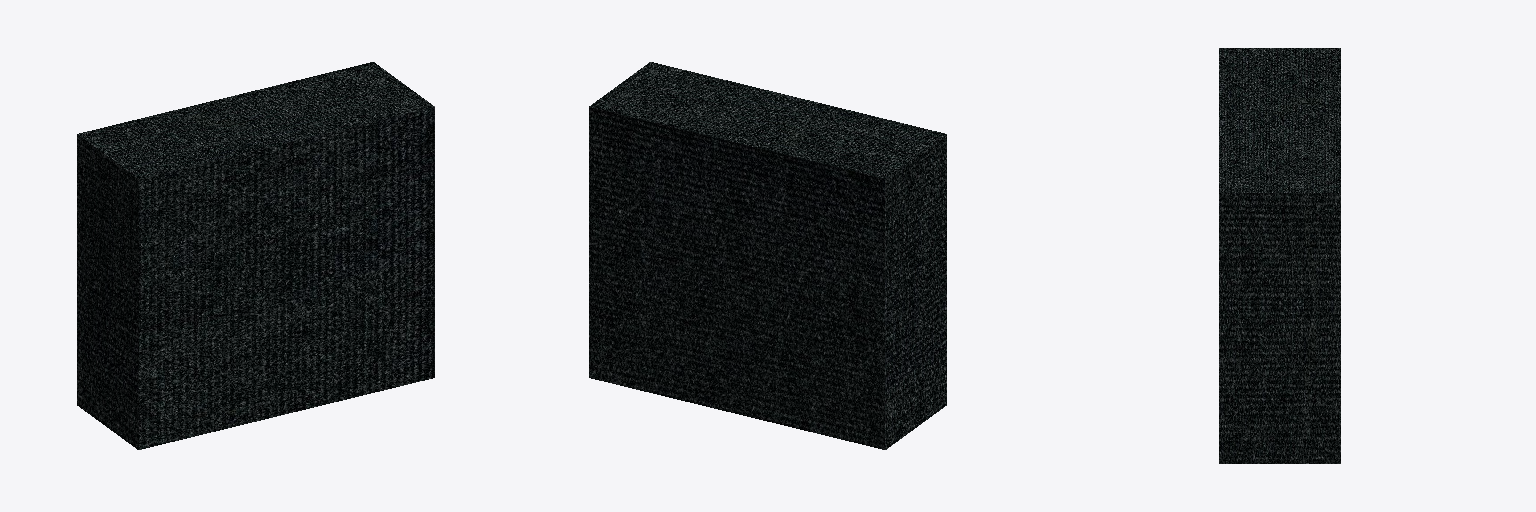
3 views of the same model, side by side, from view 1: azimuth 30°, elevation 25°; view 2: azimuth 150°, elevation 25°; view 3: azimuth 270°, elevation 25° (orthographic).
Visible parts, largest first — view 1: Cube; view 2: Cube; view 3: Cube.
Part boxes in pixels (x1,y1,x2,y2): Cube: (77, 62, 434, 449); Cube: (589, 62, 946, 449); Cube: (1219, 48, 1340, 463).
Bounding box in the file's own units: 2 × 1.75 × 0.7182.
1 materials, 1 textured.